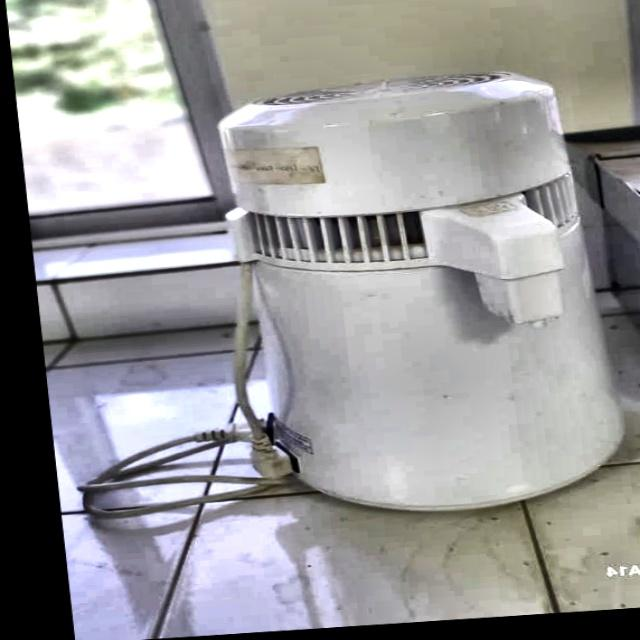Distilled Water Maker: (183, 57, 635, 530)
